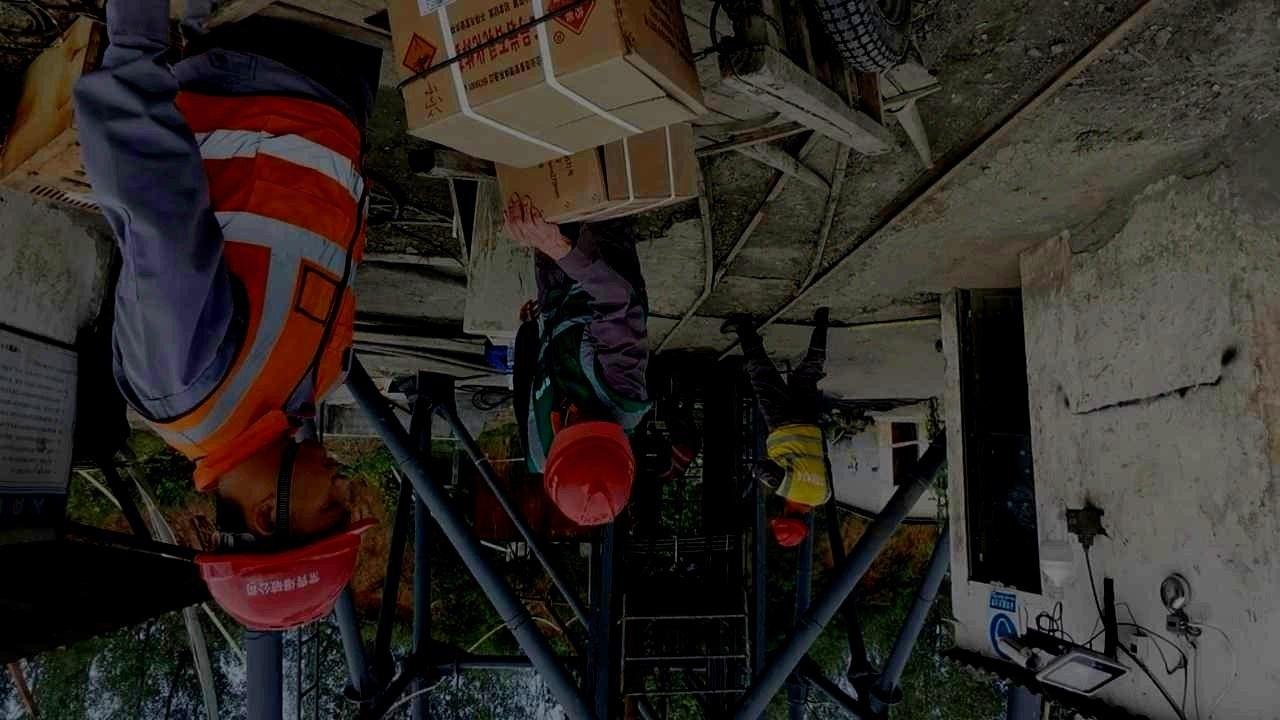helmet: (191, 437, 379, 632), (542, 410, 636, 526), (769, 508, 811, 547)
